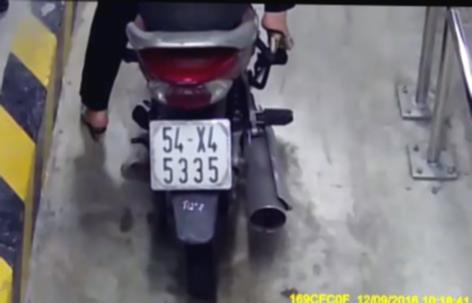License_Plate: (146, 115, 243, 196)
